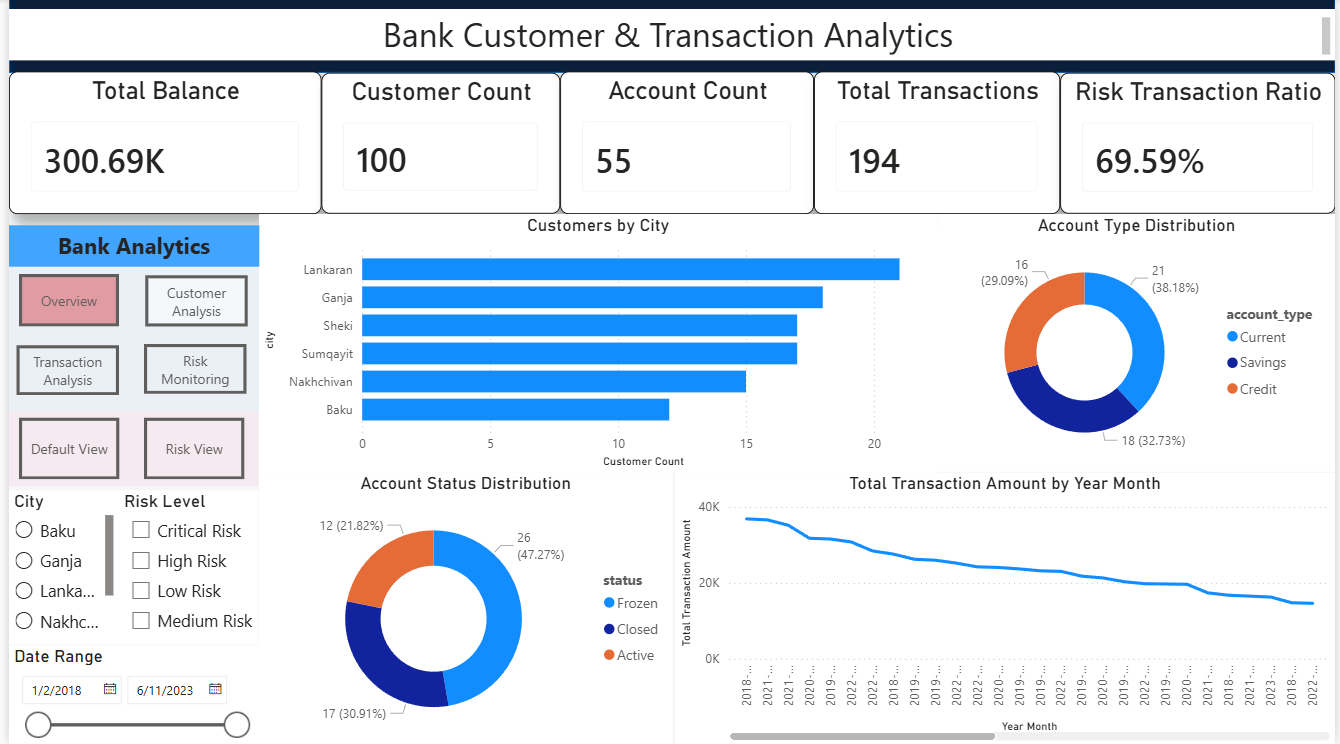

The page's visual inventory and layout, read from the dashboard file:
{"tool":"powerbi","page":{"name":"Overview","canvas":[1280,720],"ordinal":0},"visuals":[{"type":"shape","box":[0,0,1280.3,71.4],"z":0},{"type":"textbox","box":[0,9.6,1280.3,49.4],"z":1000},{"type":"cardVisual","title":"Total Balance","fields":{"Data":["Measures Table.Total Balance"]},"box":[0,70,301.6,137.5],"z":2000},{"type":"cardVisual","title":"Customer Count","fields":{"Data":["Measures Table.Customer Count"]},"box":[301.9,71.4,230.5,135.8],"z":3000},{"type":"cardVisual","title":"Account Count","fields":{"Data":["Measures Table.Account Count"]},"box":[532,70,244.9,137.5],"z":4000},{"type":"cardVisual","title":"Total Transactions","fields":{"Data":["Measures Table.Total Transactions"]},"box":[776.9,70,237.7,137.5],"z":5000},{"type":"cardVisual","title":"Risk Transaction Ratio","fields":{"Data":["Measures Table.Risk Transaction Ratio"]},"box":[1014.6,71.2,265.4,136.3],"z":6000},{"type":"clusteredBarChart","title":"Customers by City","fields":{"Category":["customers.city"],"Y":["Measures Table.Customer Count"]},"box":[241.3,207.5,655.1,249.7],"z":7000},{"type":"donutChart","title":"Account Type Distribution","fields":{"Category":["accounts.account_type"],"Y":["Measures Table.Account Count"]},"box":[896.4,207.5,383.6,248.5],"z":8000},{"type":"donutChart","title":"Account Status Distribution","fields":{"Category":["accounts.status"],"Y":["Measures Table.Account Count"]},"box":[241.3,457.2,399.3,263],"z":9000},{"type":"lineChart","fields":{"Category":["Date Table.Year Month"],"Y":["Measures Table.Total Transaction Amount"]},"box":[643.6,456.9,636.7,263.5],"z":10000},{"type":"listSlicer","title":"City","fields":{"Values":["customers.city"]},"box":[0,474.2,106.8,149],"z":11000},{"type":"slicer","title":"Date Range","fields":{"Values":["Date Table.Date"]},"box":[0,623.7,241.3,95.3],"z":12000},{"type":"shape","box":[0,218.4,241.3,179.8],"z":13000},{"type":"slicer","title":"Risk Level","fields":{"Values":["transactions_bank.Transaction Risk Level"]},"box":[106.8,474.2,134.1,149],"z":14000},{"type":"group","id":"g1","title":"Group 1","box":[0,218.4,241.3,164.1],"z":15000},{"type":"shape","box":[0,398.5,240.8,72],"z":16000},{"type":"actionButton","box":[9.9,404.7,96.8,59.6],"z":18000},{"type":"actionButton","box":[130.3,404.7,96.8,59.6],"z":18500},{"type":"actionButton","box":[7.2,334.2,98.9,48.3],"z":21500,"group":"g1"},{"type":"actionButton","box":[9.7,265.5,96.5,50.7],"z":21750,"group":"g1"},{"type":"actionButton","box":[131.5,266.7,98.9,49.5],"z":21875,"group":"g1"},{"type":"textbox","box":[0,218.4,241.3,39.8],"z":22000,"group":"g1"},{"type":"actionButton","box":[130.3,333,98.9,48.3],"z":23000,"group":"g1"}]}

Visuals, with their boxes in screenshot pixels (x1, y1, x2, y2), scaled from the page's 1280x720 canvas onto the 1340x744 screenshot:
shape: locate(0, 0, 1339, 74)
textbox: locate(0, 10, 1339, 61)
"Total Balance" cardVisual: locate(0, 72, 316, 214)
"Customer Count" cardVisual: locate(316, 74, 557, 214)
"Account Count" cardVisual: locate(557, 72, 813, 214)
"Total Transactions" cardVisual: locate(813, 72, 1062, 214)
"Risk Transaction Ratio" cardVisual: locate(1062, 74, 1339, 214)
"Customers by City" clusteredBarChart: locate(253, 214, 938, 472)
"Account Type Distribution" donutChart: locate(938, 214, 1339, 471)
"Account Status Distribution" donutChart: locate(253, 472, 671, 743)
lineChart - Date Table.Year Month x Measures Table.Total Transaction Amount: locate(674, 472, 1339, 743)
"City" listSlicer: locate(0, 490, 112, 644)
"Date Range" slicer: locate(0, 644, 253, 743)
shape: locate(0, 226, 253, 411)
"Risk Level" slicer: locate(112, 490, 252, 644)
"Group 1" group: locate(0, 226, 253, 395)
shape: locate(0, 412, 252, 486)
actionButton: locate(10, 418, 112, 480)
actionButton: locate(136, 418, 238, 480)
actionButton: locate(8, 345, 111, 395)
actionButton: locate(10, 274, 111, 327)
actionButton: locate(138, 276, 241, 327)
textbox: locate(0, 226, 253, 267)
actionButton: locate(136, 344, 240, 394)
